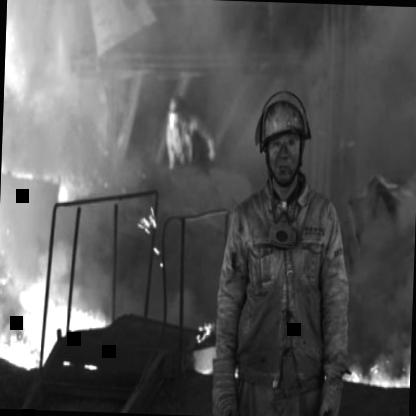helmet: (249, 80, 313, 196)
